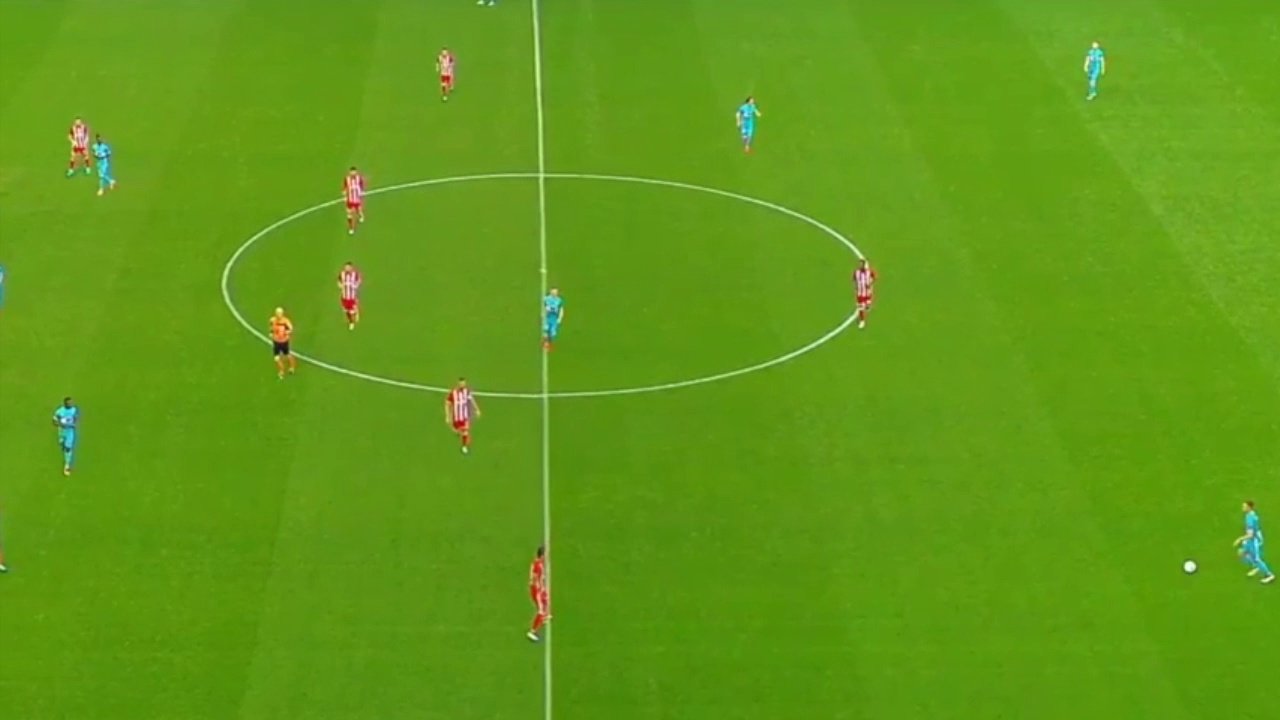ball: (1181, 559, 1199, 576)
person: (1231, 495, 1274, 590), (442, 375, 482, 455), (522, 542, 553, 642), (848, 254, 884, 333), (334, 257, 368, 331), (52, 397, 85, 473), (339, 165, 369, 236), (61, 120, 93, 183), (92, 131, 119, 199), (734, 95, 764, 152), (1082, 34, 1106, 99), (540, 284, 563, 349), (434, 47, 456, 97)
